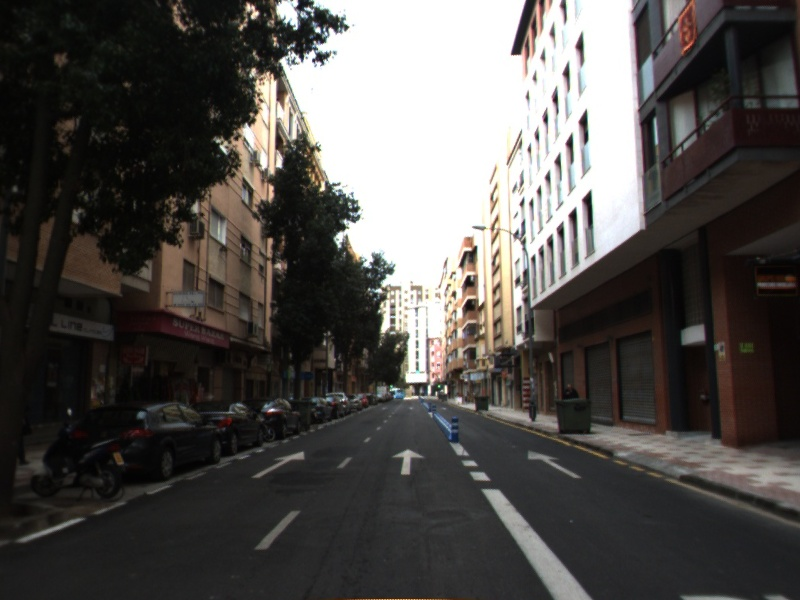STRAIGHT: (526, 448, 584, 480), (249, 449, 307, 480), (389, 447, 427, 477)
